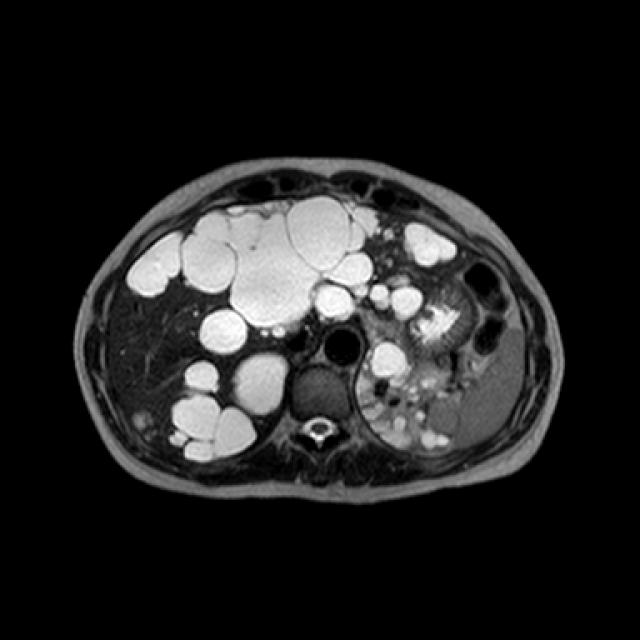sol: (357, 321, 460, 453)
